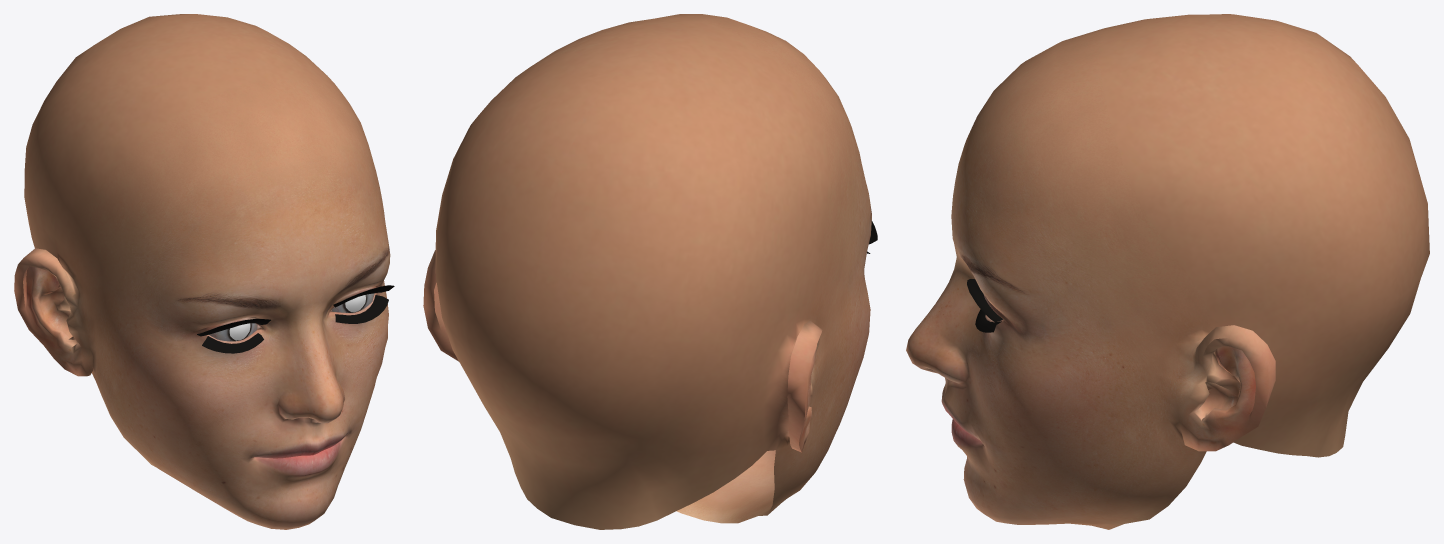
File: Fem.obj
3 views of the same model, side by side, from view 1: azimuth 30°, elevation 25°; view 2: azimuth 150°, elevation 25°; view 3: azimuth 270°, elevation 25° (orthographic). The views are drawn at different scales.
Parts seen in each view (by area): view 1: Head, rEye, lEye; view 2: Head; view 3: Head.
Boxes of the visible parts, x1,y1,x2,y2 form: Head: (14,14,394,529); rEye: (209,323,257,341); lEye: (331,293,374,312); Head: (423,14,877,529); Head: (906,14,1429,529).
Size of the model in its own units: 18.28 by 23.45 by 22.7.
